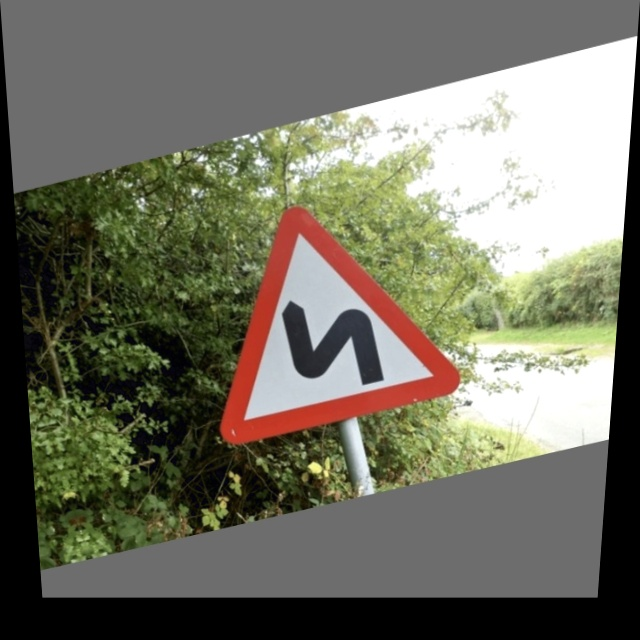Left_Reverse_Bend: (169, 173, 474, 451)
